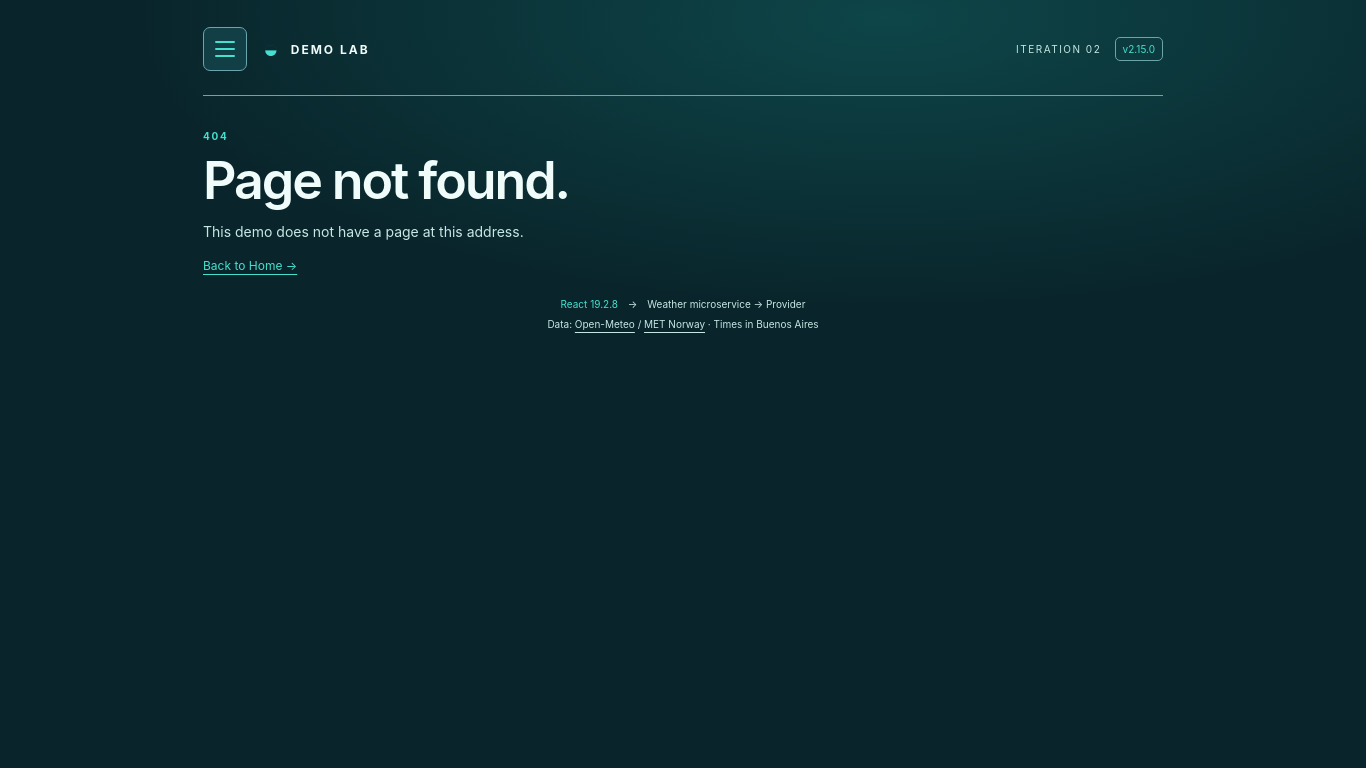
Test case: routed demo application › renders a useful not-found route
Check: the heading reads "Page not found.", box [203,149,569,212]
Click the link "Back to Home →".
click(250, 266)  # box [203,258,297,273]
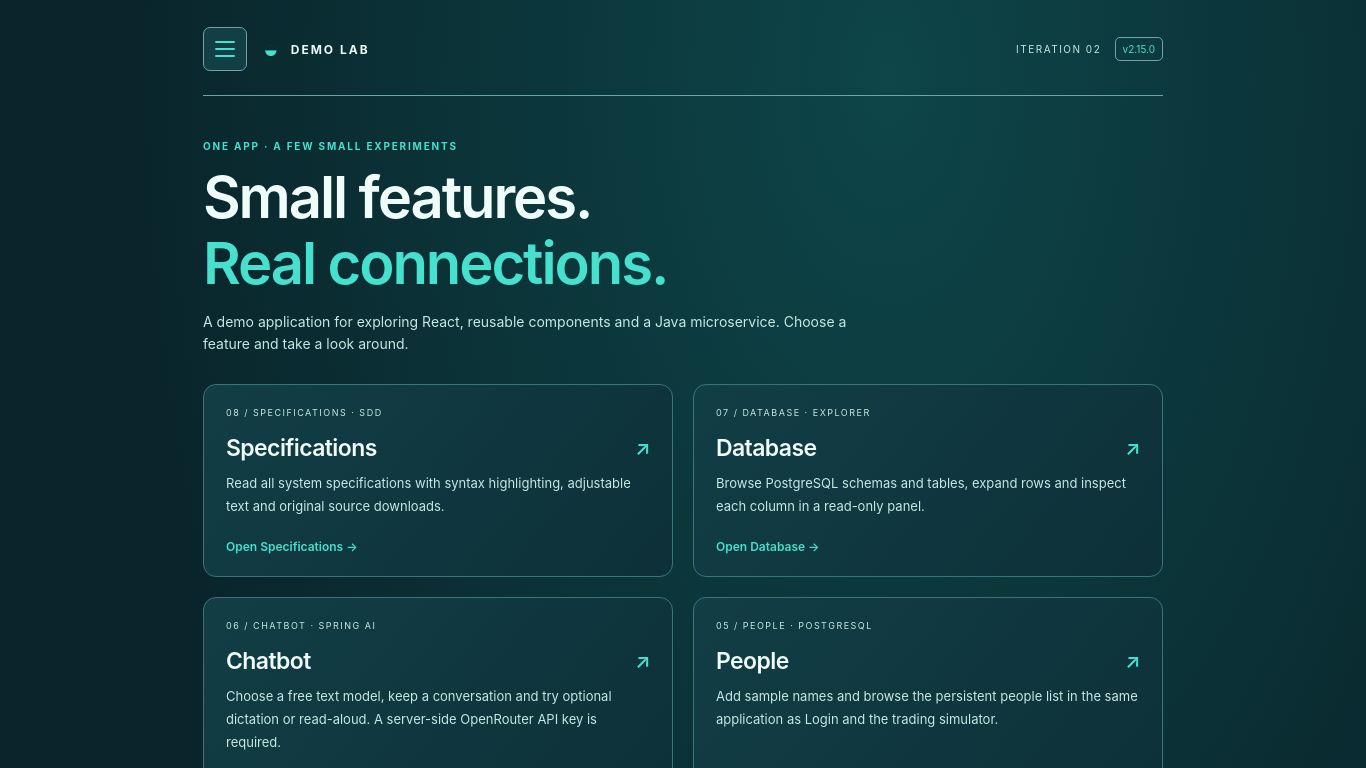
Check: the heading "Small features.Real connections." is shown, box [203,162,667,298]
